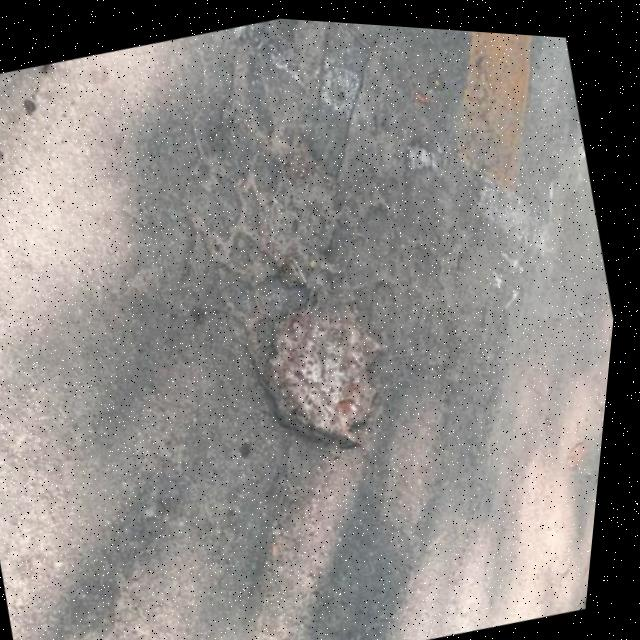Pothole: (236, 269, 420, 474), (227, 115, 375, 300)
